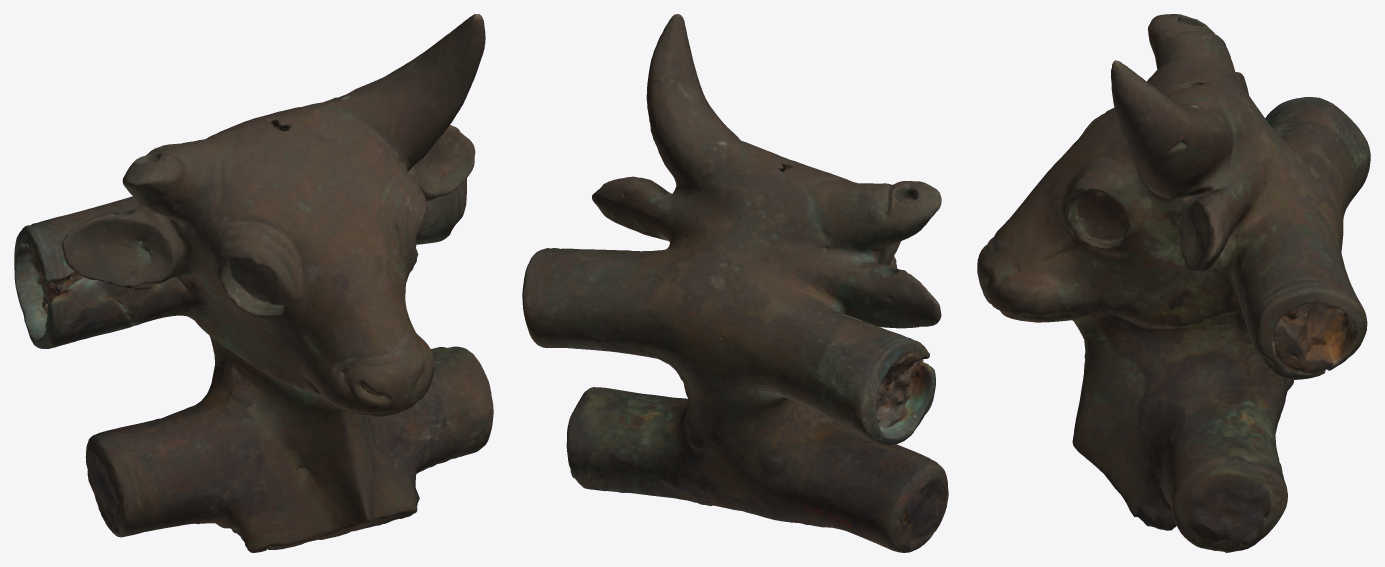
File: BronzeBullHead.glb
The picture shows the model from 3 angles, left to right: view 1: azimuth 30°, elevation 25°; view 2: azimuth 150°, elevation 25°; view 3: azimuth 270°, elevation 25°; orthographic projection. The views are drawn at different scales.
Parts seen in each view (by area): view 1: ADVIMG_74_51_5619_BronzeBullsHead_RC_Model_5_n3d; view 2: ADVIMG_74_51_5619_BronzeBullsHead_RC_Model_5_n3d; view 3: ADVIMG_74_51_5619_BronzeBullsHead_RC_Model_5_n3d.
Boxes of the visible parts, x1,y1,x2,y2 form: ADVIMG_74_51_5619_BronzeBullsHead_RC_Model_5_n3d: [14, 14, 493, 552]; ADVIMG_74_51_5619_BronzeBullsHead_RC_Model_5_n3d: [522, 14, 948, 552]; ADVIMG_74_51_5619_BronzeBullsHead_RC_Model_5_n3d: [977, 14, 1370, 552].
Size of the model in its own units: 0.0861 by 0.0987 by 0.0714.
1 material, 1 textured.
